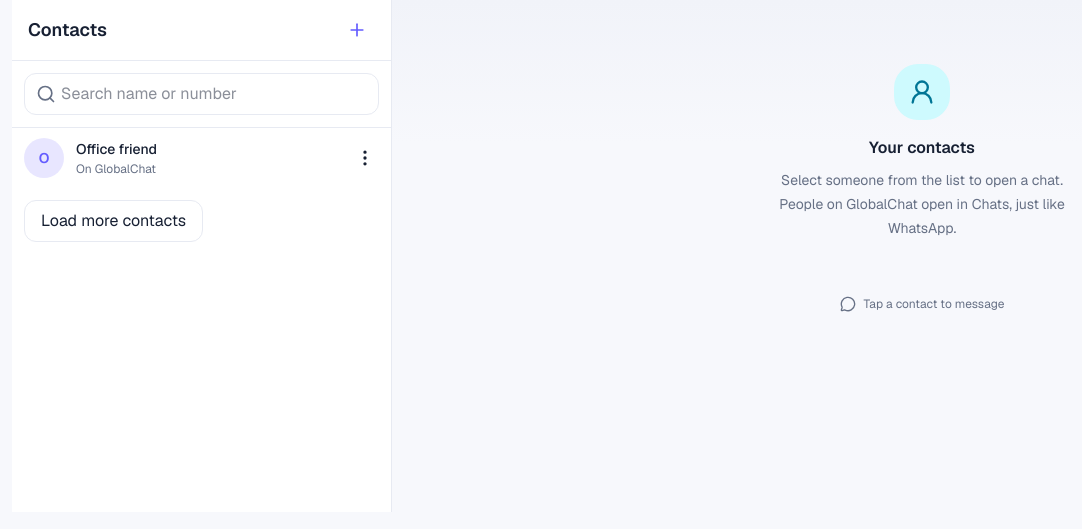
Test: pagination uses server cursor and deduplicates repeated rows
Click the button "Load more contacts" at coordinates (114, 221), box [24,200,203,242]
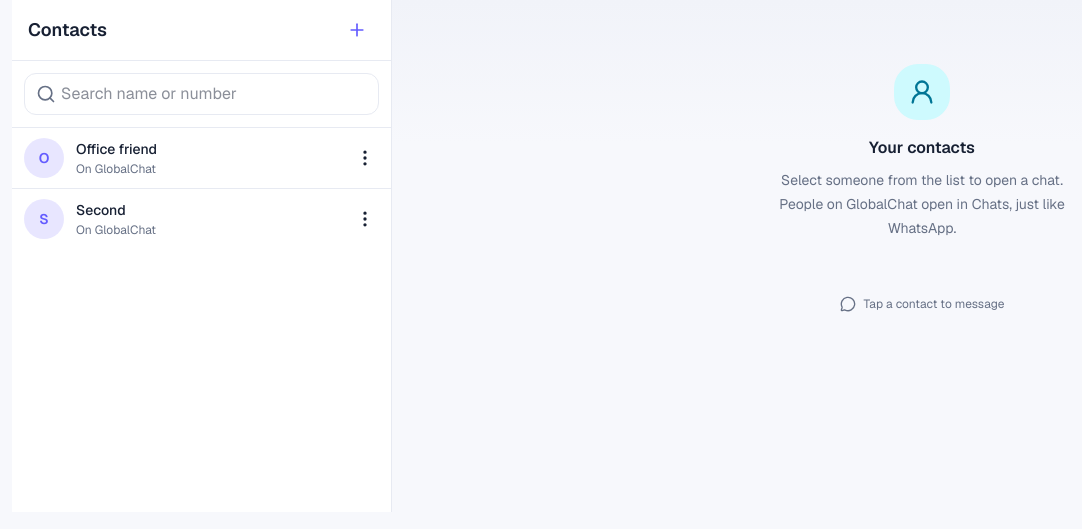
Result: the text "Second" is shown at [76,201,126,219]
Result: the text "Office friend" is shown once at [76,140,157,158]
